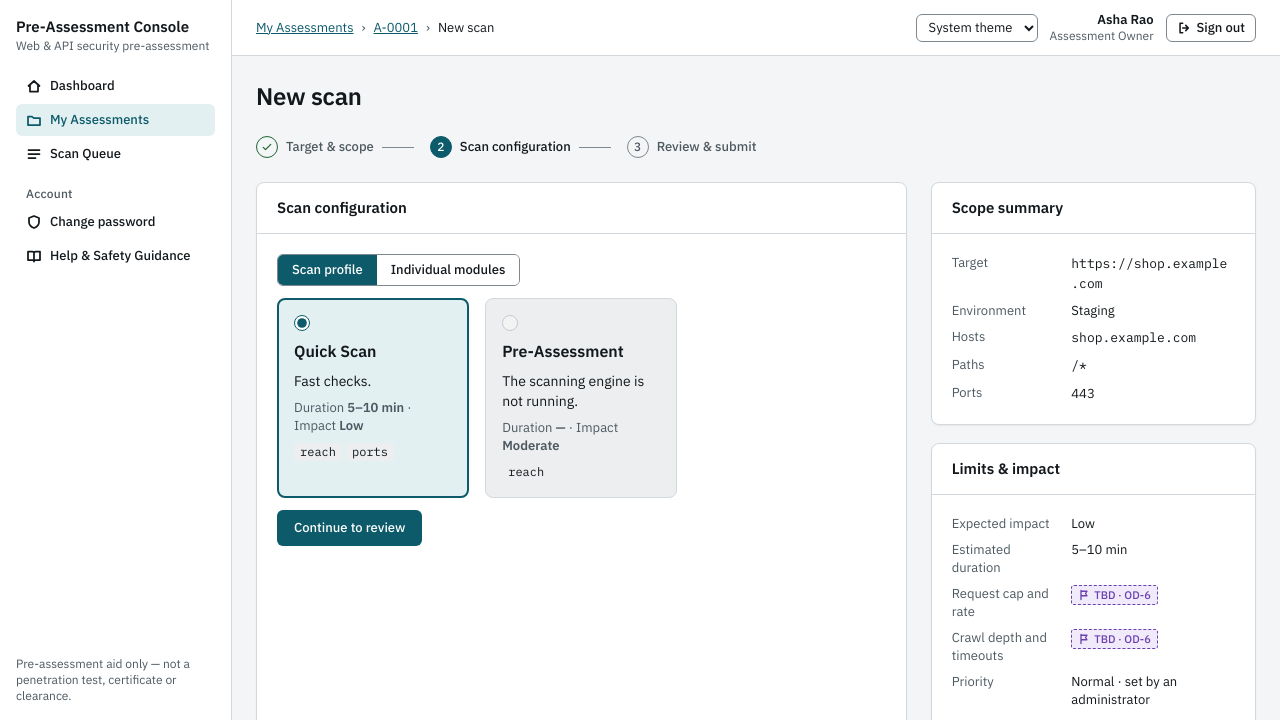
Test: submit answered with 503 shows the unavailable banner and no success
Click the button "Continue to review" at (350, 528), box [277,510,422,546]
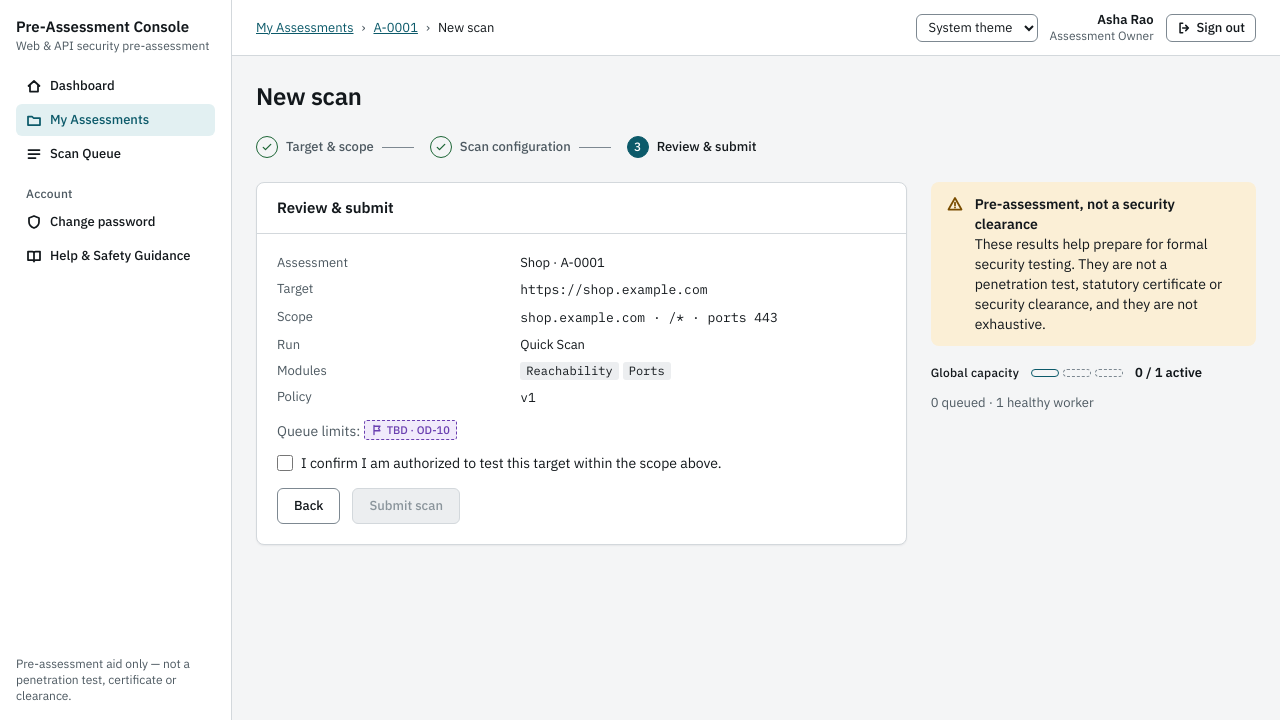
expect the button "Submit scan" is shown: met, box [352,488,460,524]
Click the checkbox labelled "I confirm I am authorized" at (285, 463), box [277,455,293,471]
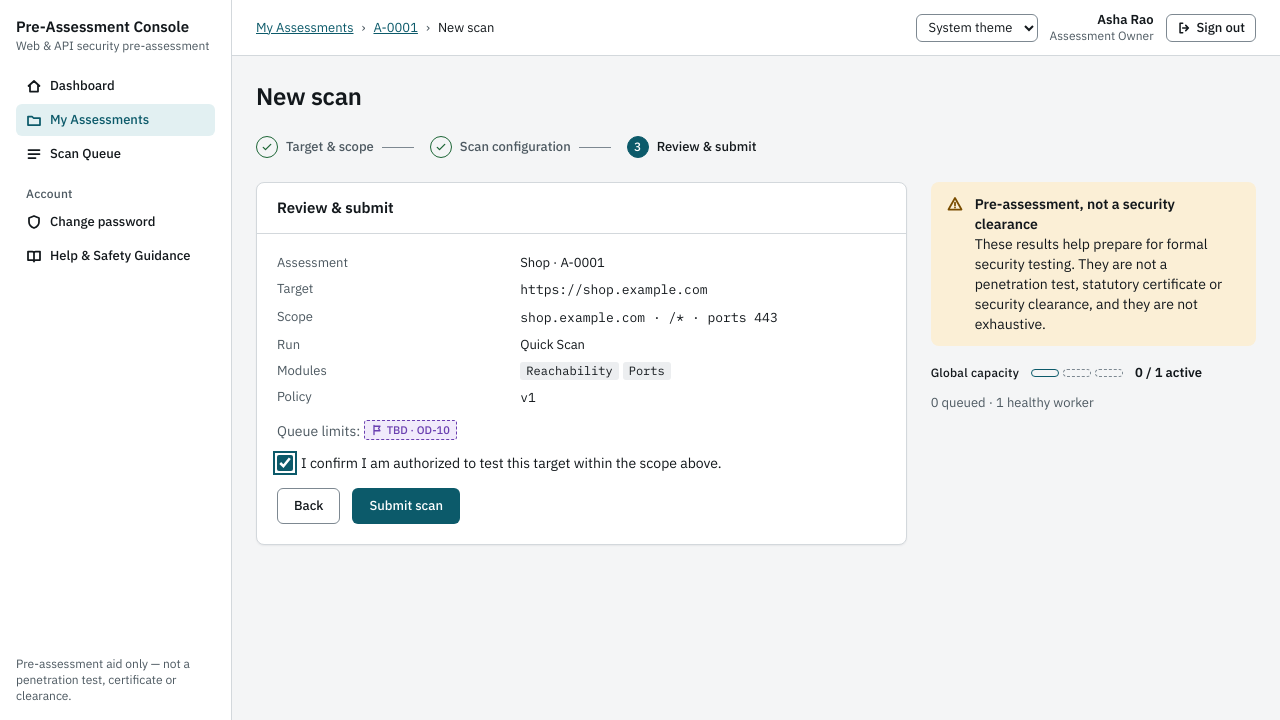
Click the button "Submit scan" at (406, 506), box [352,488,460,524]
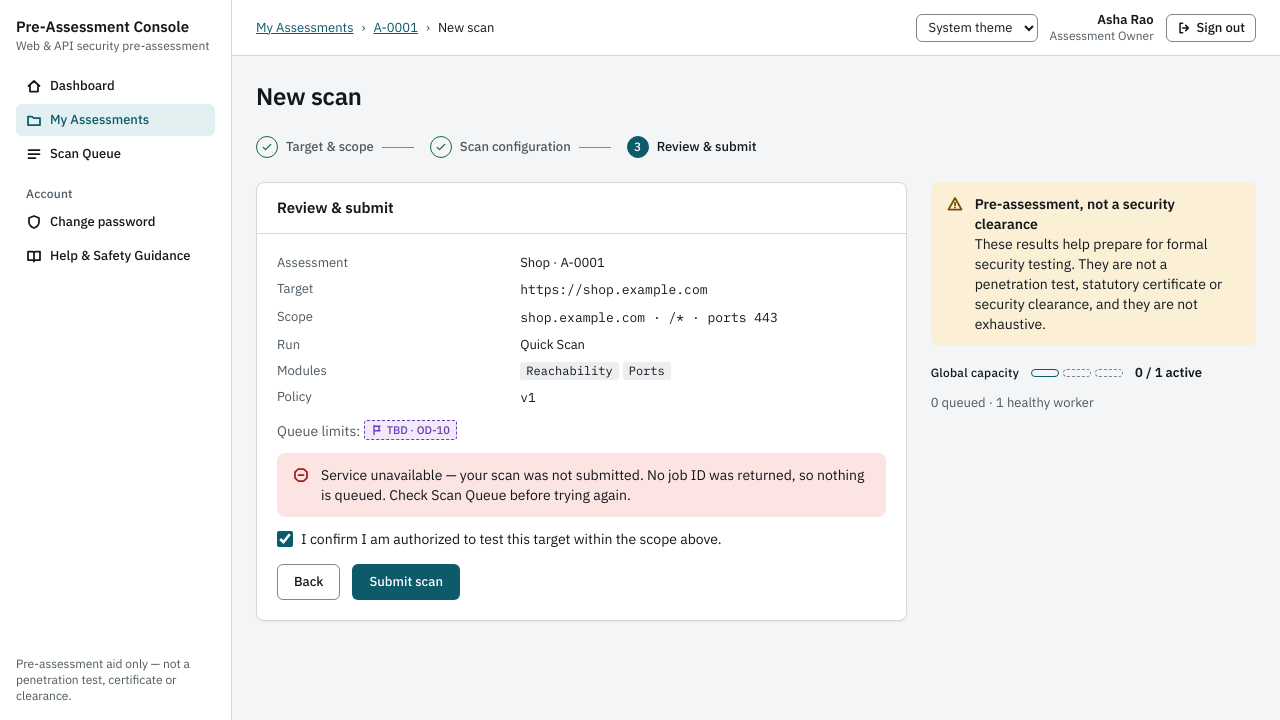
expect the message shows "Service unavailable — your scan was not submitted. No job ID was returned, so nothing is queued. Check Scan Queue before trying again.": met, box [321,466,864,504]
